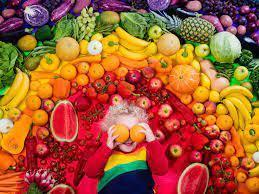lemon: (201, 73, 210, 89), (210, 91, 220, 102), (216, 104, 227, 114), (193, 59, 200, 70)
